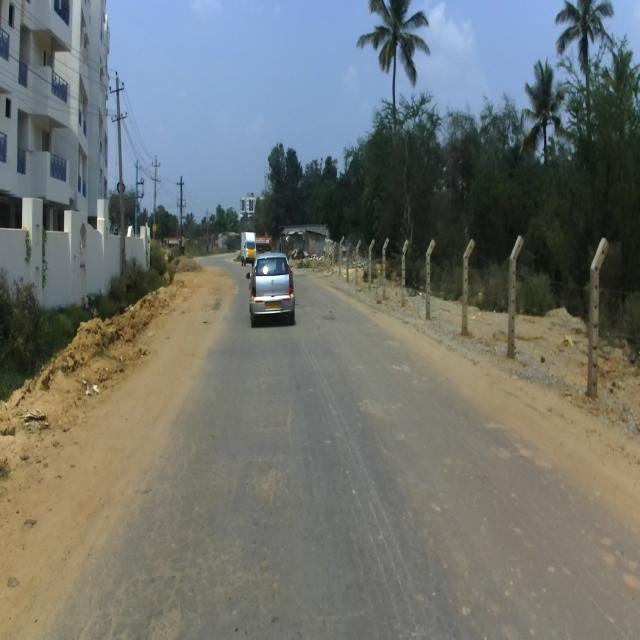barrier ahead at: (587, 236, 612, 407), (503, 234, 528, 365), (456, 234, 482, 344), (425, 234, 436, 326)
car ahead at: (250, 248, 296, 334)
